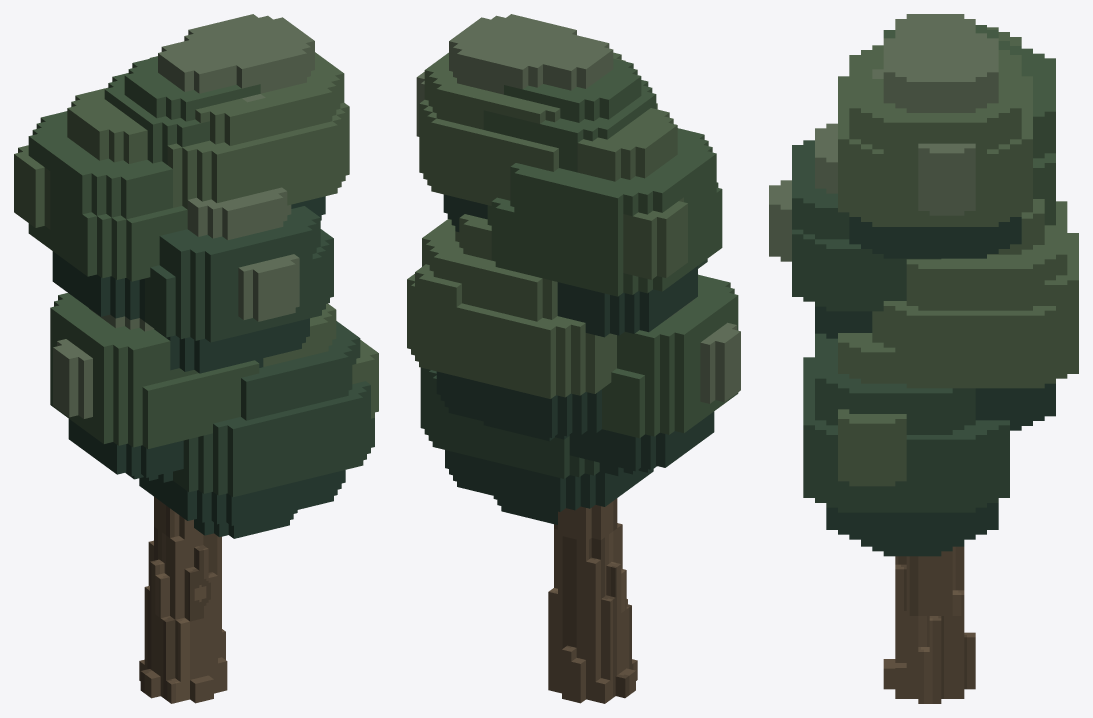
Rendered from juniper_ancient_2_picked.glb.
The picture shows the model from 3 angles, left to right: view 1: azimuth 30°, elevation 25°; view 2: azimuth 150°, elevation 25°; view 3: azimuth 270°, elevation 25°; orthographic projection. The views are drawn at different scales.
Parts seen in each view (by area): view 1: VoxelVisual; view 2: VoxelVisual; view 3: VoxelVisual.
Part boxes in pixels (<box>): VoxelVisual: <box>14,14,378,703</box>; VoxelVisual: <box>407,14,740,703</box>; VoxelVisual: <box>769,14,1078,703</box>.
Size of what is drawn, in the model's own units: 7.75 by 16 by 6.75.
